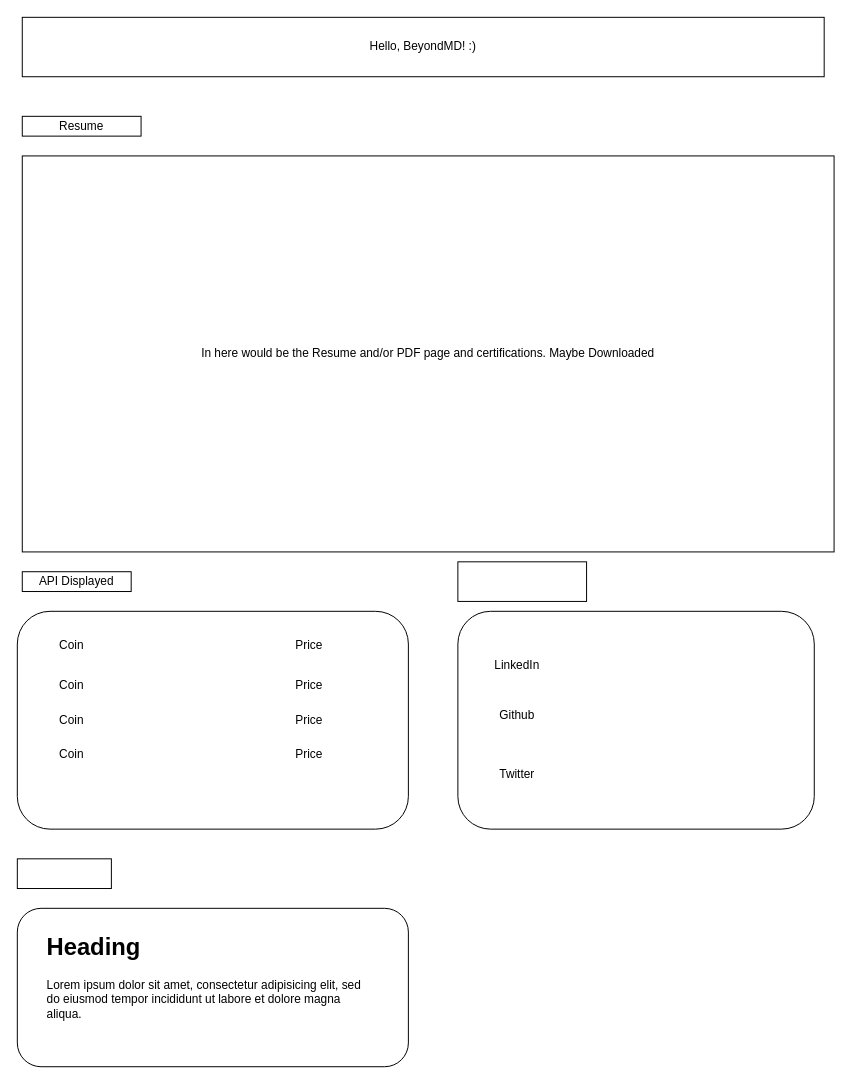
This 851x1084 diagram has some shape labels left out. Here are the shapes that lost their labels. From the top down, the box of each, then its label:
(457, 561, 587, 601): URLs to LinkedIn/Github
(16, 858, 111, 889): Crypto News API
